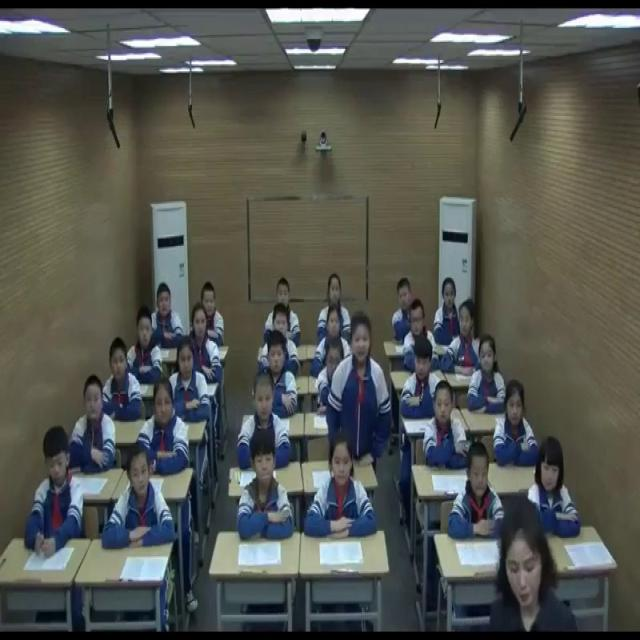focused: (332, 312, 390, 468), (25, 427, 86, 556), (104, 446, 174, 556), (304, 437, 375, 540), (445, 440, 509, 541), (239, 434, 293, 541), (532, 439, 583, 544), (238, 371, 292, 468), (140, 380, 192, 473), (70, 378, 118, 473), (99, 338, 145, 422), (425, 380, 470, 464), (494, 382, 539, 465), (168, 342, 210, 428), (396, 344, 442, 422), (442, 300, 488, 375), (185, 300, 224, 388), (466, 336, 509, 413), (260, 300, 302, 374), (127, 310, 165, 390), (260, 334, 297, 413), (312, 308, 353, 376), (318, 275, 355, 347), (266, 280, 300, 348), (149, 284, 183, 350), (318, 342, 353, 405), (402, 297, 434, 363), (435, 278, 464, 346), (389, 277, 418, 342), (198, 281, 227, 345)
